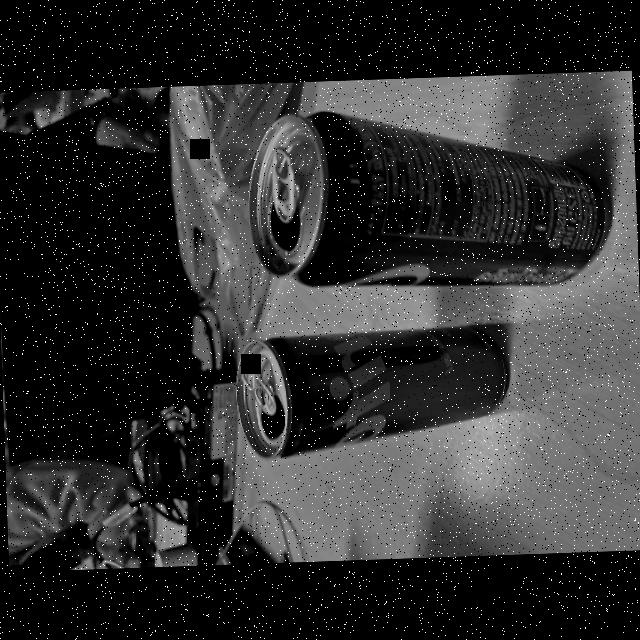can: (232, 91, 614, 318), (221, 298, 518, 485)
